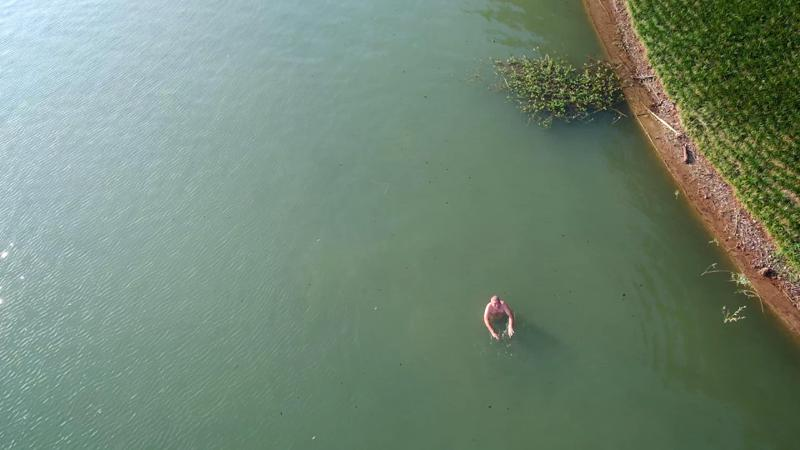swimmers: (482, 294, 515, 340)
